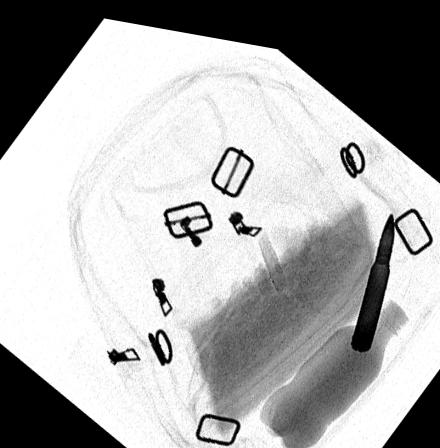Bullet: (347, 195, 396, 339)
